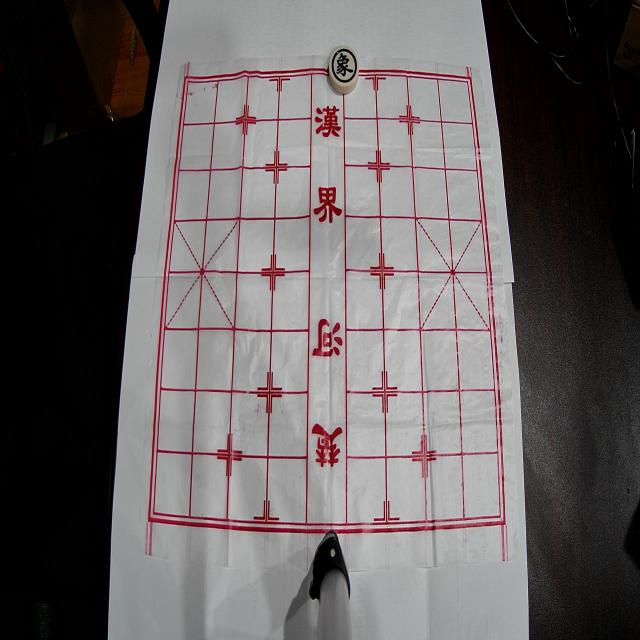black-elephant: (329, 46, 359, 94)
